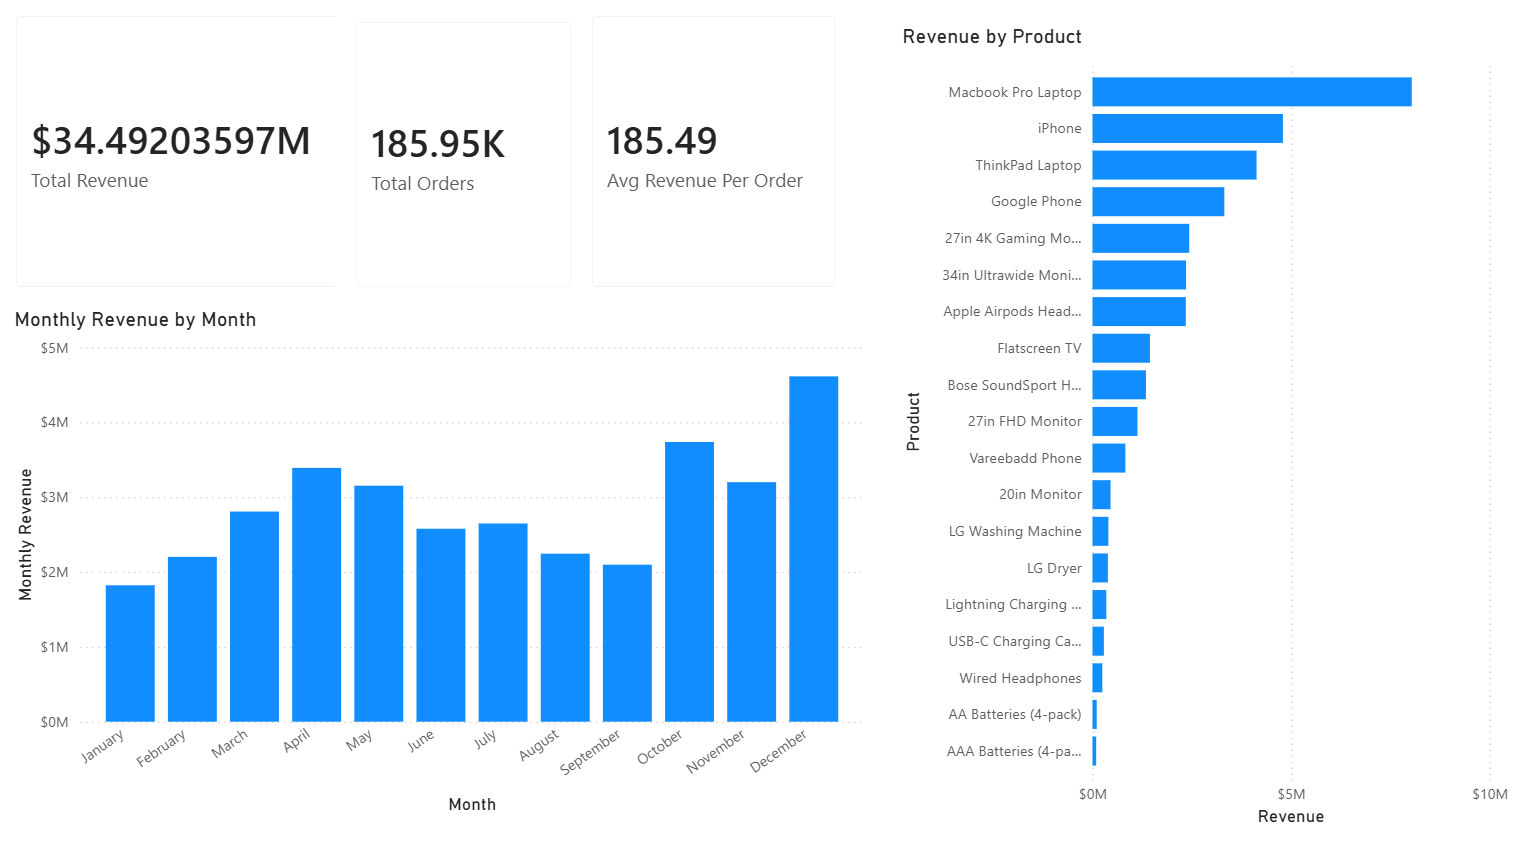

What the dashboard file says about the page in this screenshot:
{"tool":"powerbi","page":{"name":"Page 1","canvas":[1280,720],"ordinal":0},"visuals":[{"type":"clusteredColumnChart","fields":{"Category":["cleaned_sales_data.Month"],"Y":["Sum(cleaned_sales_data.Revenue)"]},"box":[11.2,260,717.5,426.2],"z":0},{"type":"cardVisual","fields":{"Data":["Sum(cleaned_sales_data.Revenue)"]},"box":[0,0,310,260],"z":1000},{"type":"cardVisual","fields":{"Data":["CountNonNull(cleaned_sales_data.Order_ID)"]},"box":[283.8,5,213.8,255],"z":2000},{"type":"cardVisual","fields":{"Data":["cleaned_sales_data.Average Revenue Per Order"]},"box":[480,0,237.5,260],"z":3000},{"type":"clusteredBarChart","fields":{"Category":["cleaned_sales_data.Product"],"Y":["Sum(cleaned_sales_data.Revenue)"]},"box":[751.2,23.8,515,672.5],"z":4000}]}

Visuals, with their boxes in screenshot pixels (x1, y1, x2, y2), scaled from the page's 1280x720 canvas onto the 1525x849 screenshot:
clusteredColumnChart - cleaned_sales_data.Month x Sum(cleaned_sales_data.Revenue): l=13, t=307, r=868, b=809
cardVisual - Sum(cleaned_sales_data.Revenue): l=0, t=0, r=369, b=307
cardVisual - CountNonNull(cleaned_sales_data.Order_ID): l=338, t=6, r=593, b=307
cardVisual - cleaned_sales_data.Average Revenue Per Order: l=572, t=0, r=855, b=307
clusteredBarChart - cleaned_sales_data.Product x Sum(cleaned_sales_data.Revenue): l=895, t=28, r=1509, b=821
